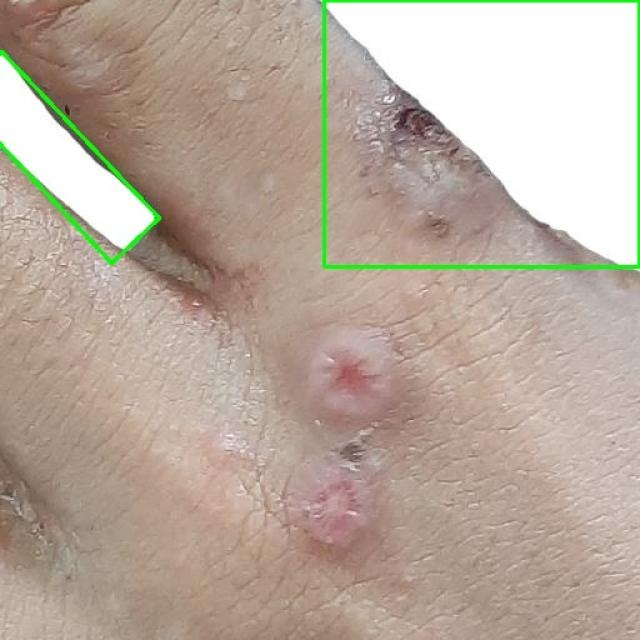Scabies: (324, 0, 639, 268), (0, 31, 165, 263)
